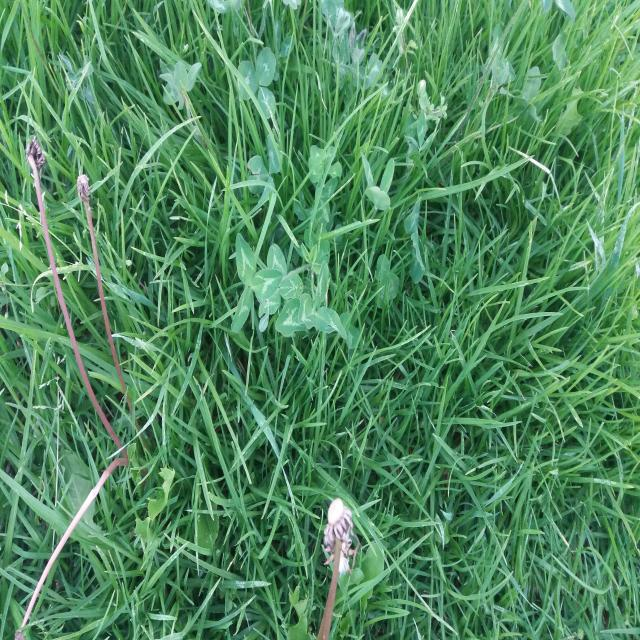Four Leaf Clover: (275, 260, 347, 340)
